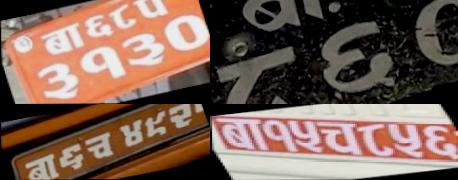0: (404, 0, 458, 82), (159, 11, 210, 52)
1: (76, 43, 126, 82), (255, 118, 303, 155), (187, 104, 206, 122)
2: (162, 104, 199, 132)
3: (118, 29, 170, 73), (35, 61, 81, 100)
4: (114, 118, 151, 150)
5: (379, 122, 432, 158), (282, 119, 330, 154)
6: (307, 12, 407, 104), (413, 124, 458, 160), (50, 140, 93, 177), (81, 13, 113, 41)
8: (210, 39, 317, 104), (352, 123, 400, 158), (105, 4, 138, 31)
9: (139, 108, 175, 142)
ba: (227, 0, 338, 43), (210, 112, 276, 155), (40, 22, 87, 59), (17, 150, 65, 180)
cha: (310, 118, 370, 159), (79, 130, 121, 164)
pa: (131, 0, 171, 20)
